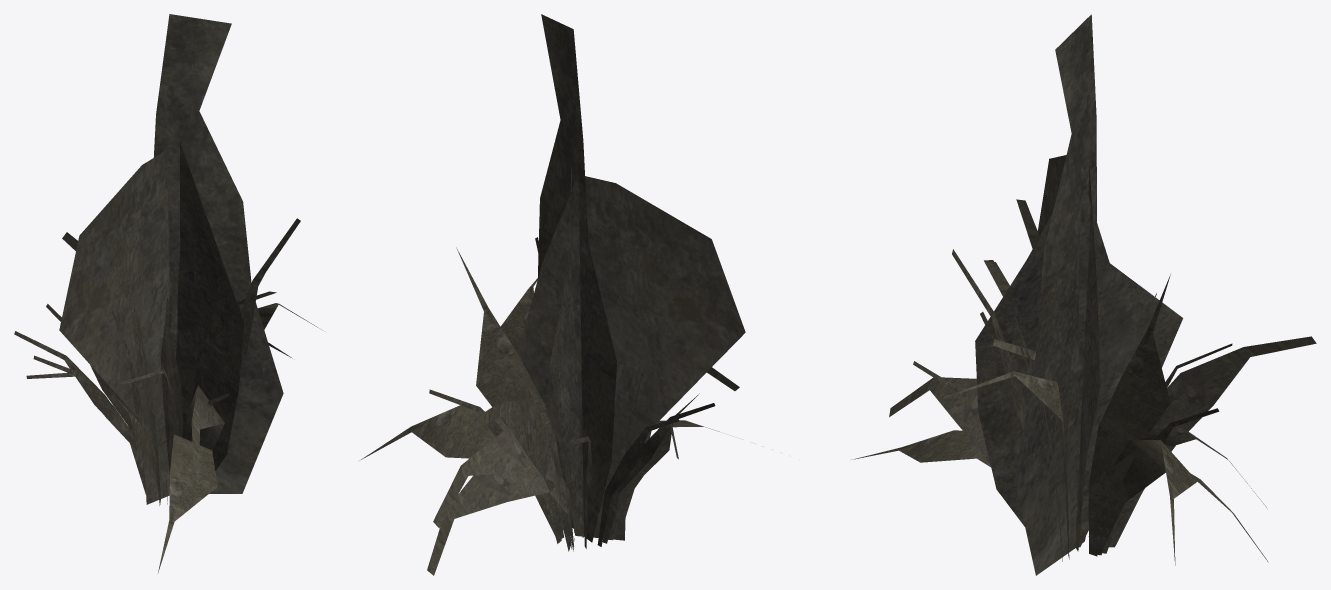
Rendered from SM_GrassMesh_01.fbx.
3 views of the same model, side by side, from view 1: azimuth 30°, elevation 25°; view 2: azimuth 150°, elevation 25°; view 3: azimuth 270°, elevation 25° (orthographic). The views are drawn at different scales.
Visible parts, largest first — view 1: SM_GrassMesh_01; view 2: SM_GrassMesh_01; view 3: SM_GrassMesh_01.
Boxes of the visible parts, left/top/right/bottom form: SM_GrassMesh_01: left=14, top=14, right=322, bottom=572; SM_GrassMesh_01: left=359, top=14, right=745, bottom=575; SM_GrassMesh_01: left=851, top=14, right=1316, bottom=575.
Size of the model in its own units: 12.66 by 15.32 by 19.34.
